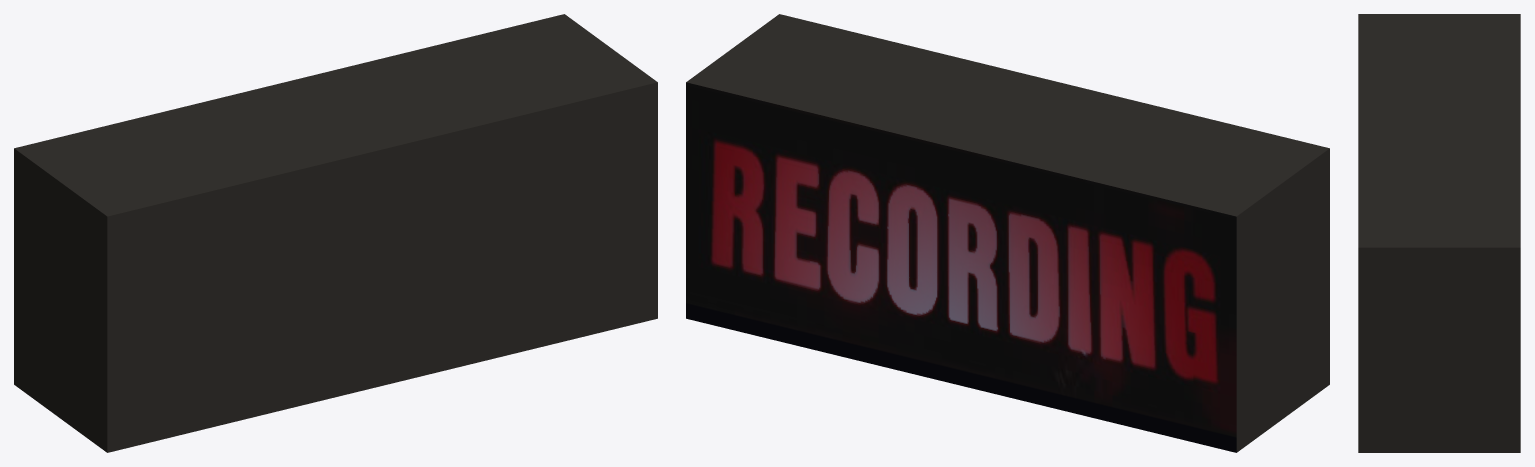
File: GYM_Box_Recording.fbx
The picture shows the model from 3 angles, left to right: view 1: azimuth 30°, elevation 25°; view 2: azimuth 150°, elevation 25°; view 3: azimuth 270°, elevation 25°; orthographic projection. The views are drawn at different scales.
Visible parts, largest first — view 1: RECORDING_Sign; view 2: RECORDING_Sign; view 3: RECORDING_Sign.
Boxes of the visible parts, box(x1,y1,x2,y2) form: RECORDING_Sign: box(14, 14, 657, 452); RECORDING_Sign: box(686, 14, 1329, 452); RECORDING_Sign: box(1358, 14, 1520, 452).
Size of the model in its own units: 0.5706 by 0.2342 by 0.1675.
2 materials, 1 textured.
